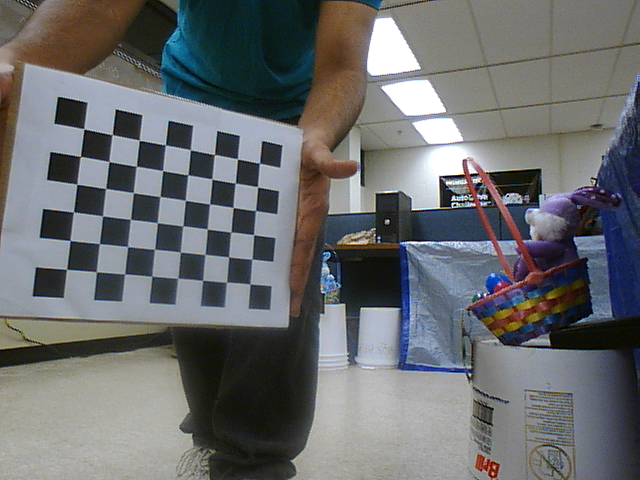bunny: (453, 151, 609, 350)
